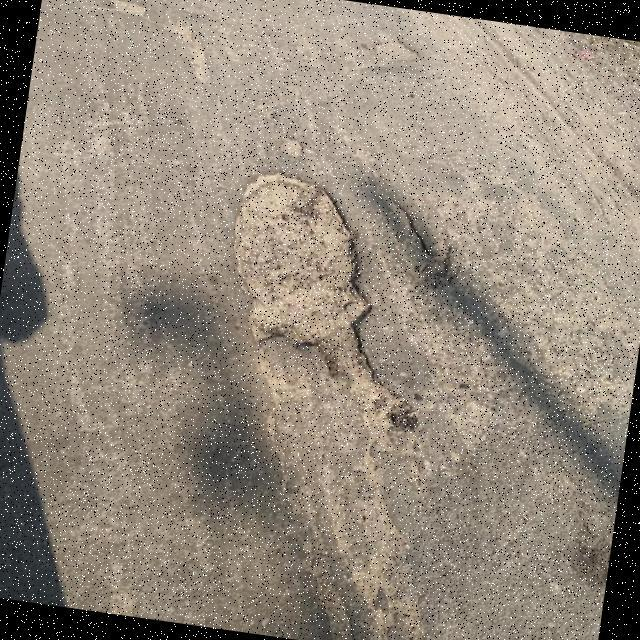Pothole: (386, 200, 620, 505), (233, 172, 416, 428)
